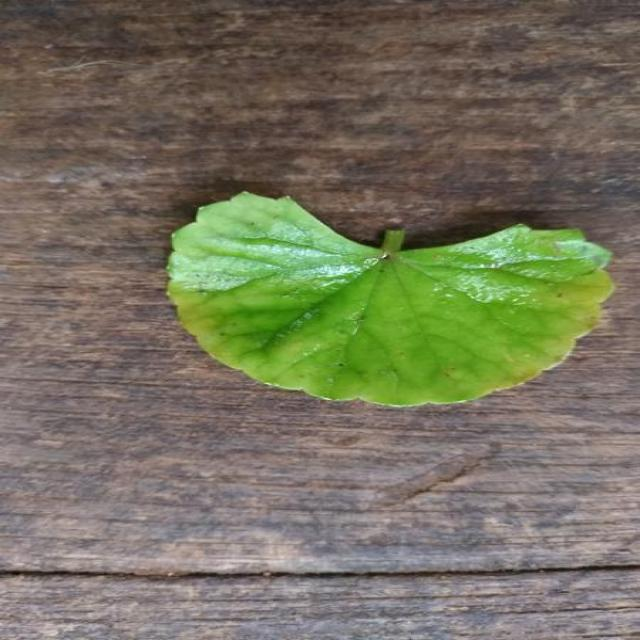bhrami: (168, 192, 613, 406)
